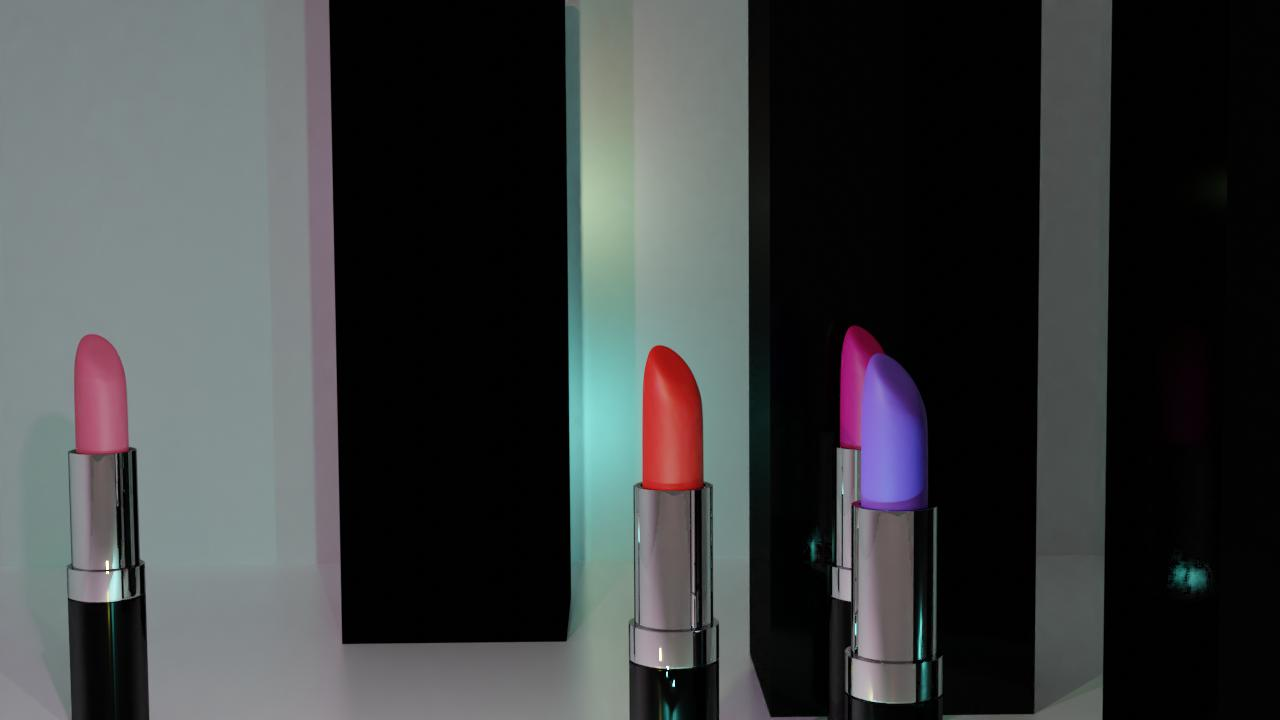CLASSIFIER_NAME: (842, 347, 945, 720), (628, 339, 721, 720), (65, 329, 152, 720)
